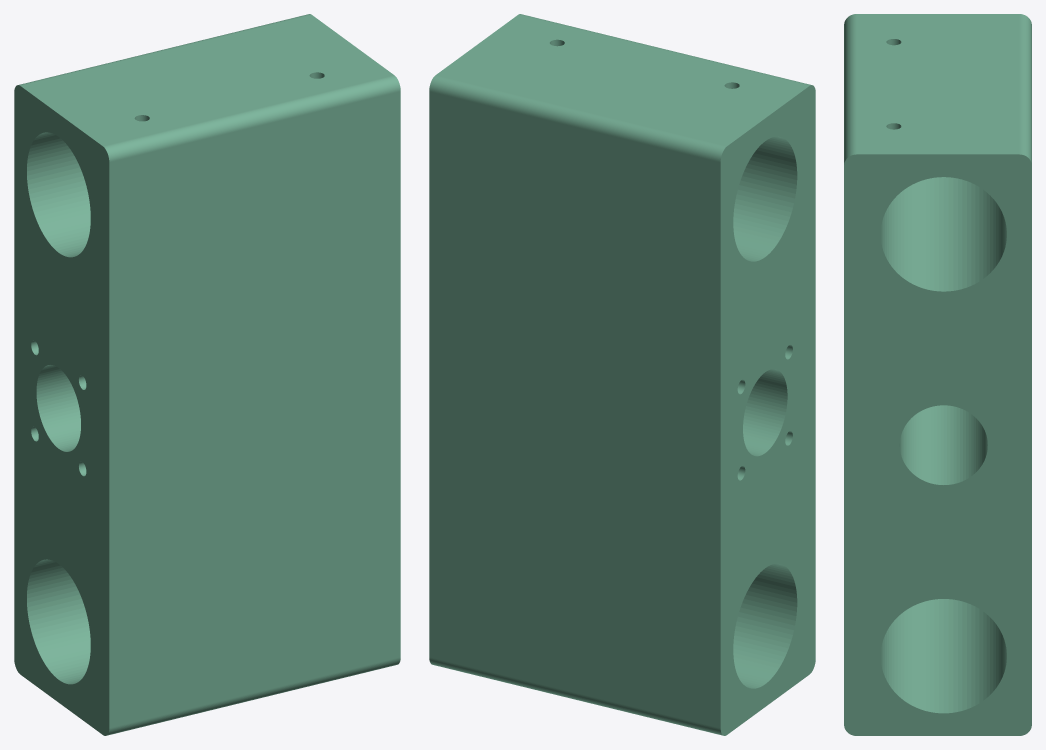
3 views of the same model, side by side, from view 1: azimuth 30°, elevation 25°; view 2: azimuth 150°, elevation 25°; view 3: azimuth 270°, elevation 25° (orthographic).
Parts seen in each view (by area): view 1: W11_lm8uu_traverse_carriage; view 2: W11_lm8uu_traverse_carriage; view 3: W11_lm8uu_traverse_carriage.
Boxes of the visible parts, left/top/right/bottom form: W11_lm8uu_traverse_carriage: left=14, top=14, right=400, bottom=735; W11_lm8uu_traverse_carriage: left=429, top=14, right=815, bottom=735; W11_lm8uu_traverse_carriage: left=844, top=14, right=1031, bottom=735.
Size of the model in its own units: 40 by 77.2 by 22.6.
